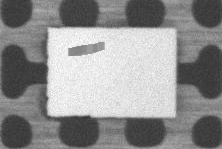DIE_INK: (66, 40, 105, 57)
